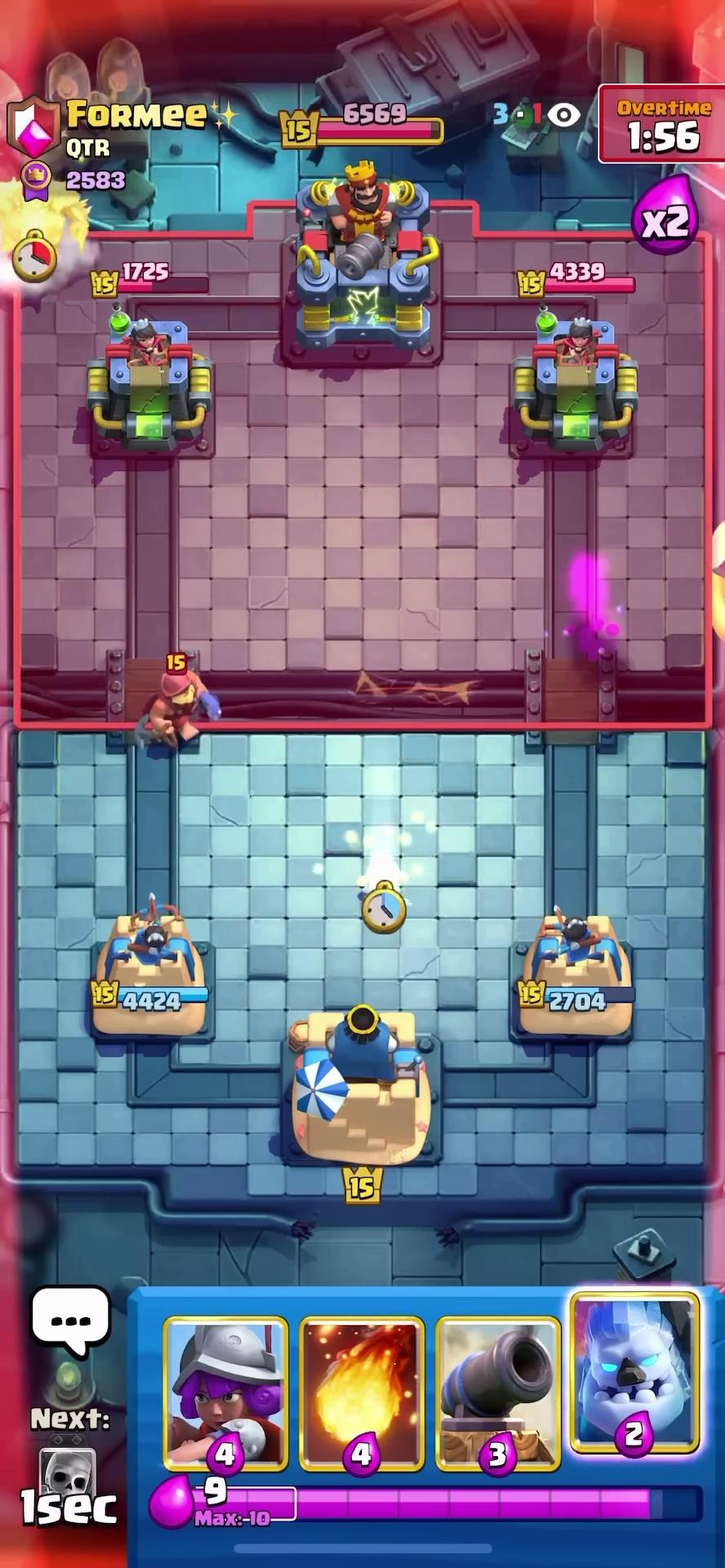ice_spirit: (361, 841, 418, 915)
